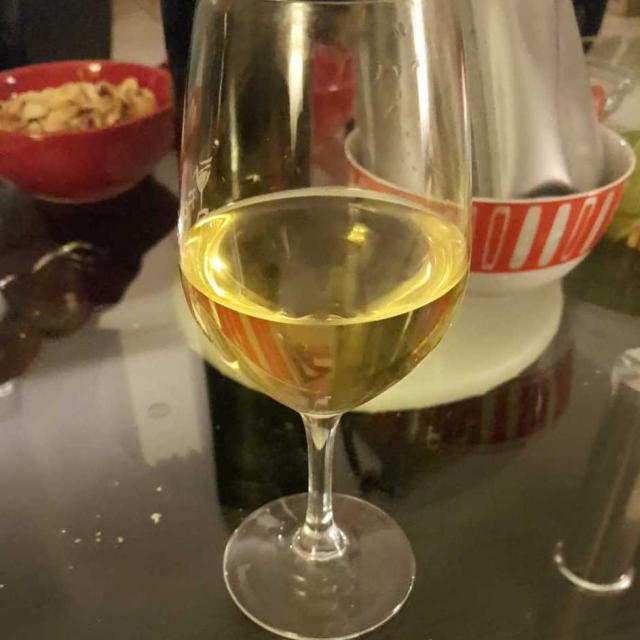wine-white: (180, 203, 469, 410)
